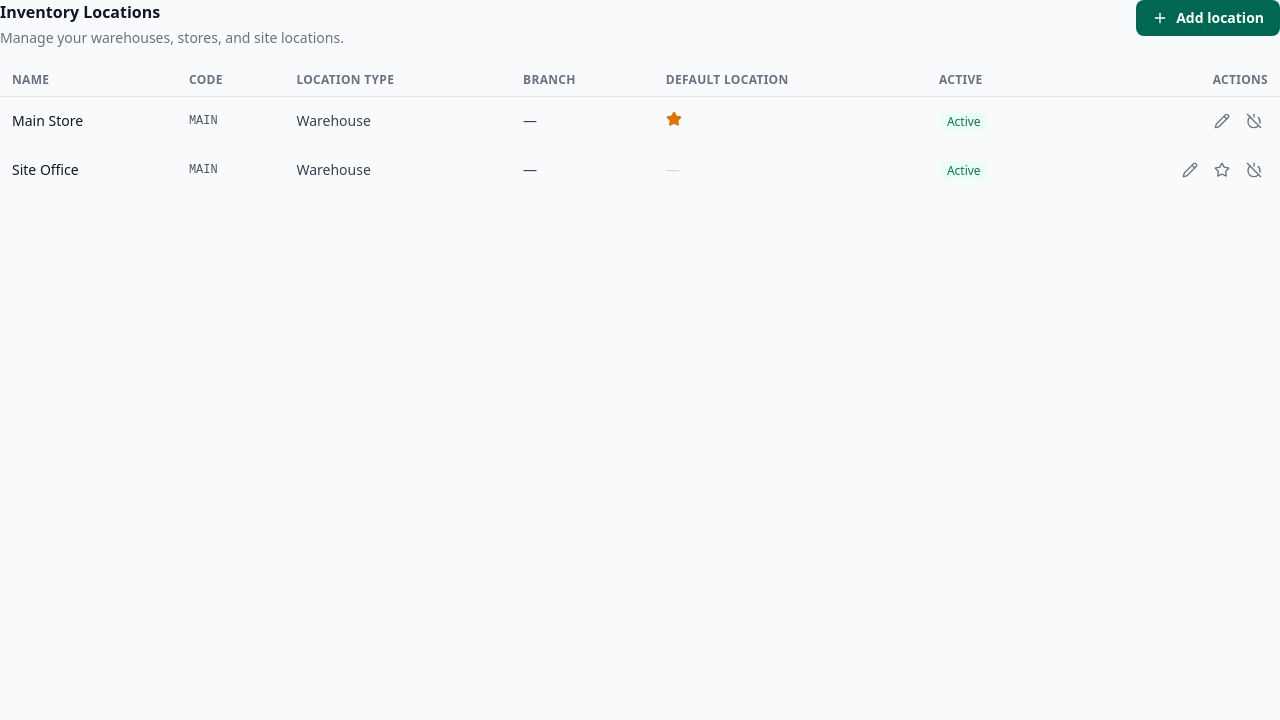
Test case: LocationsTab — default management › confirms before taking the default away from another location
Click the button with test id "location-set-default-loc-2".
click(1222, 170)  # box [1208,156,1236,184]
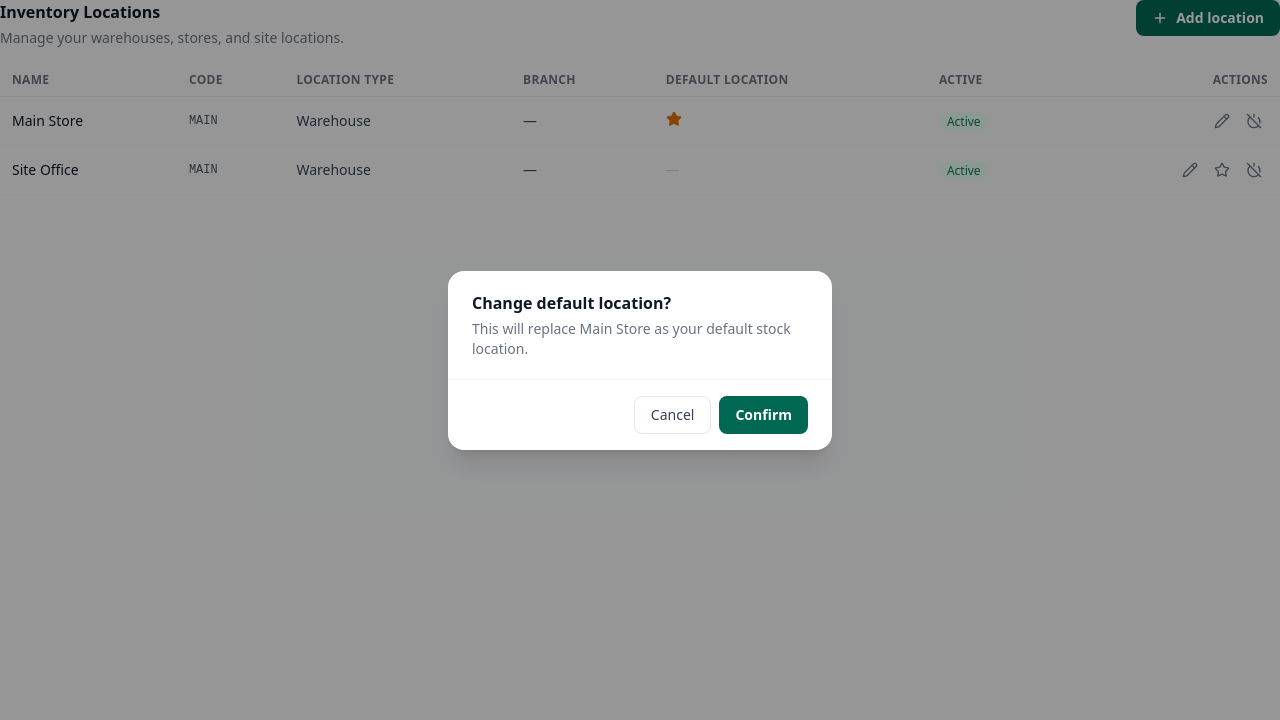
Expected: the dialog with test id "confirm-dialog" is shown
Expected: the text "This will replace Main Store as your default stock location." is shown, [472,318,808,358]
Click the button with test id "confirm-dialog-confirm".
click(764, 414)  # box [719,396,808,434]
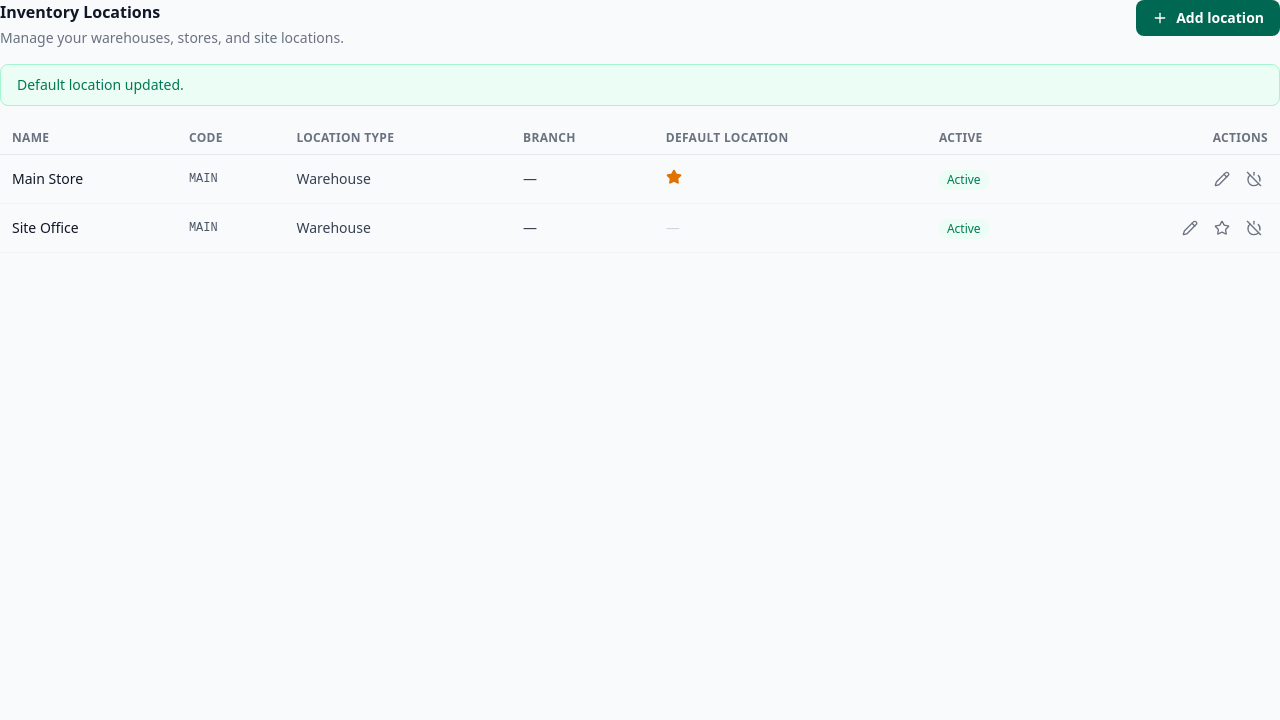
Expected: the text "Default location updated." is shown, [0,64,1279,106]
